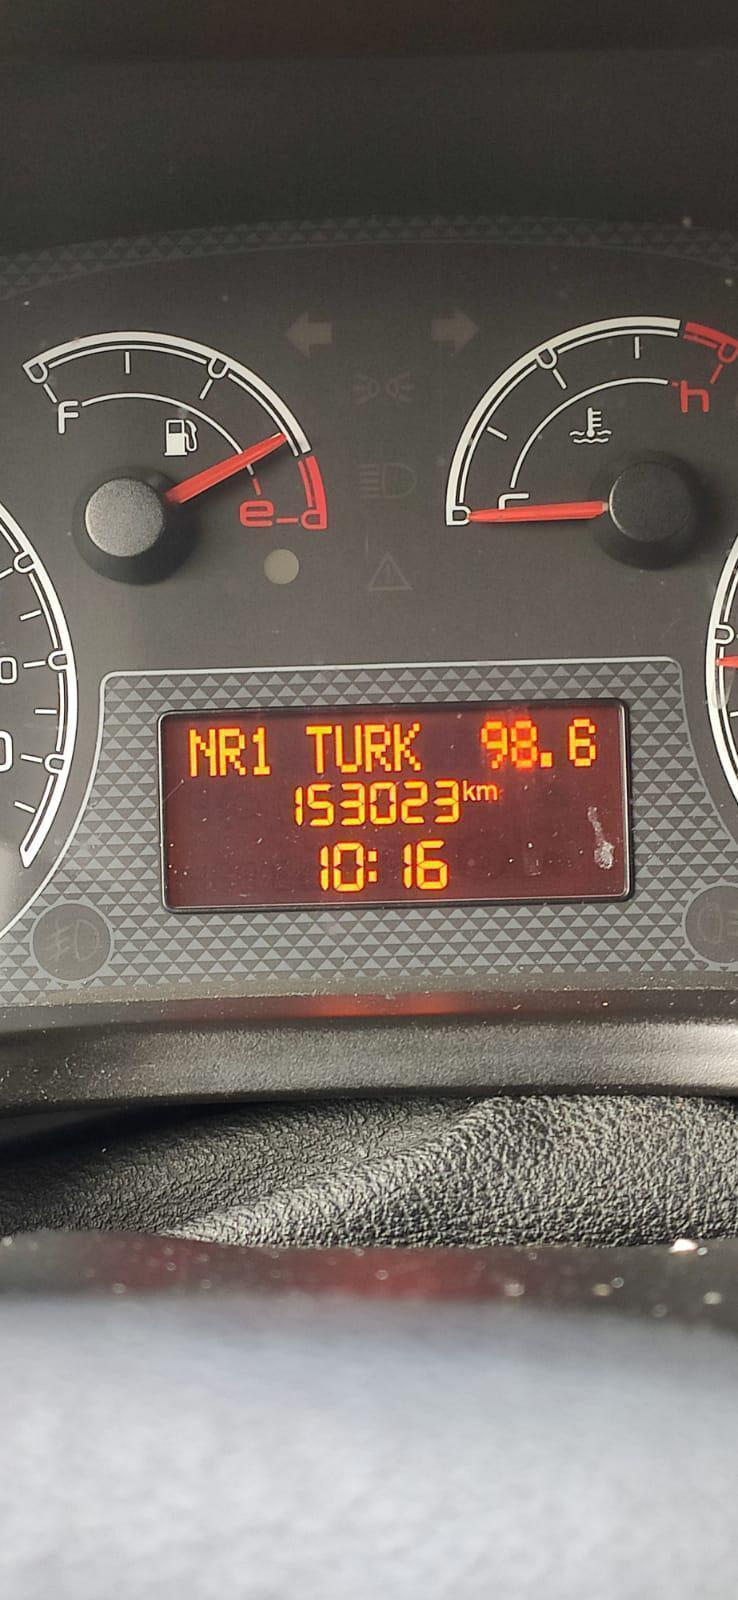,: (541, 748, 556, 770)
0: (331, 840, 363, 894), (367, 779, 397, 827)
1: (250, 724, 275, 782), (314, 841, 331, 896), (400, 837, 414, 890), (291, 779, 305, 832)
2: (400, 776, 427, 826)
3: (338, 780, 365, 828), (434, 776, 459, 826)
5: (306, 780, 334, 829)
6: (564, 710, 601, 772), (416, 837, 453, 891)
8: (511, 717, 541, 774)
9: (481, 718, 507, 772)
X: (187, 724, 217, 778), (333, 723, 363, 776), (365, 721, 394, 776), (396, 719, 425, 773), (218, 724, 246, 777), (305, 720, 331, 776), (478, 781, 502, 804), (367, 846, 380, 887), (460, 778, 478, 803)
odometer: (158, 697, 644, 906)
